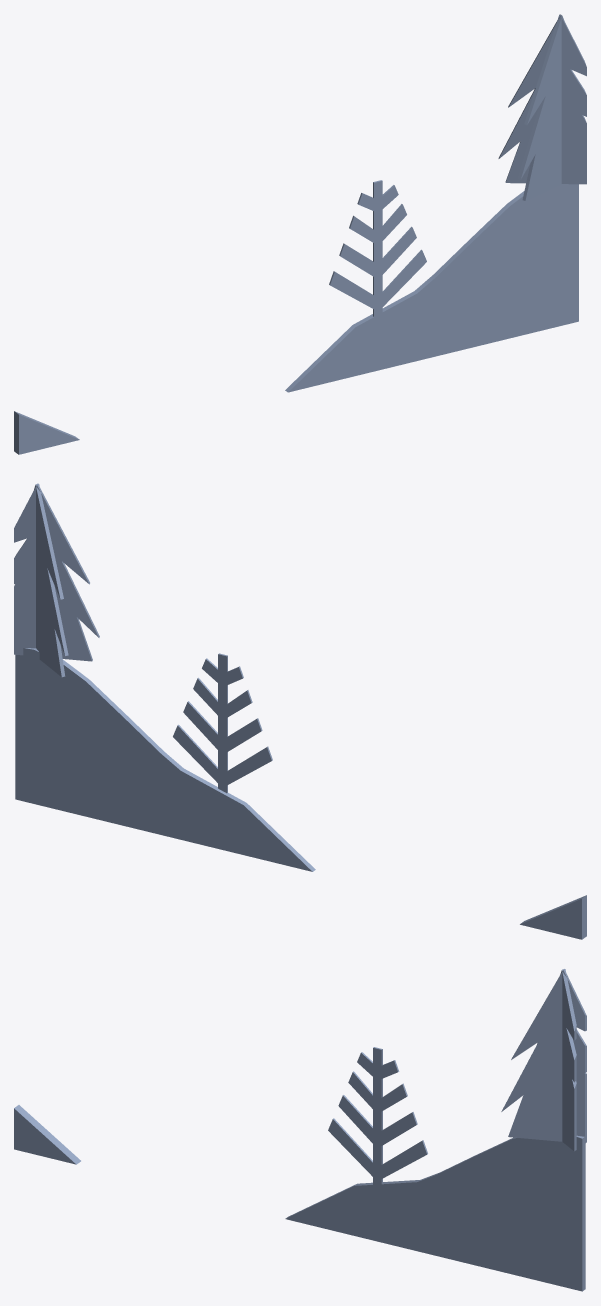
Rendered from frame_0236.glb.
3 renders of one model, top to bottom at view 1: azimuth 30°, elevation 25°; view 2: azimuth 150°, elevation 25°; view 3: azimuth 330°, elevation 25°, orthographic. The views are drawn at different scales.
Visible parts, largest first — view 1: export_trees_001.002; view 2: export_trees_001.002; view 3: export_trees_001.002.
Boxes of the visible parts, x1,y1,x2,y2 form: export_trees_001.002: (14,14,586,454); export_trees_001.002: (14,483,586,939); export_trees_001.002: (14,969,586,1291).
Bounding box in the file's own units: 0.4327 × 0.2304 × 0.0377.
